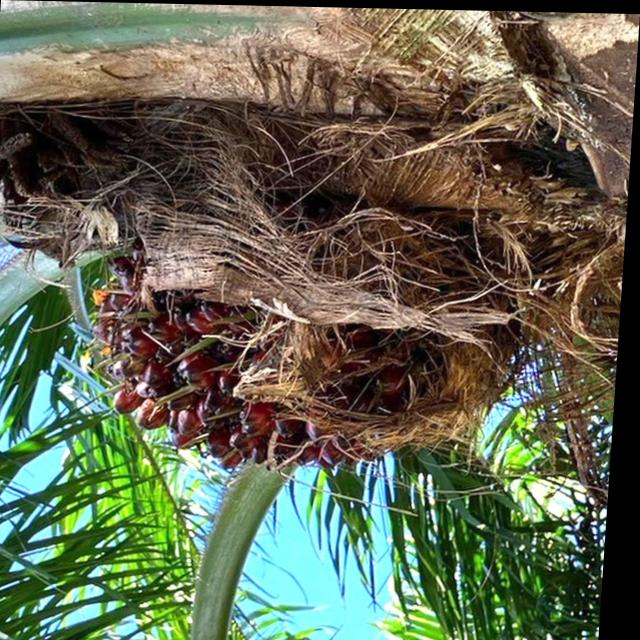ripe: (95, 270, 374, 469)
